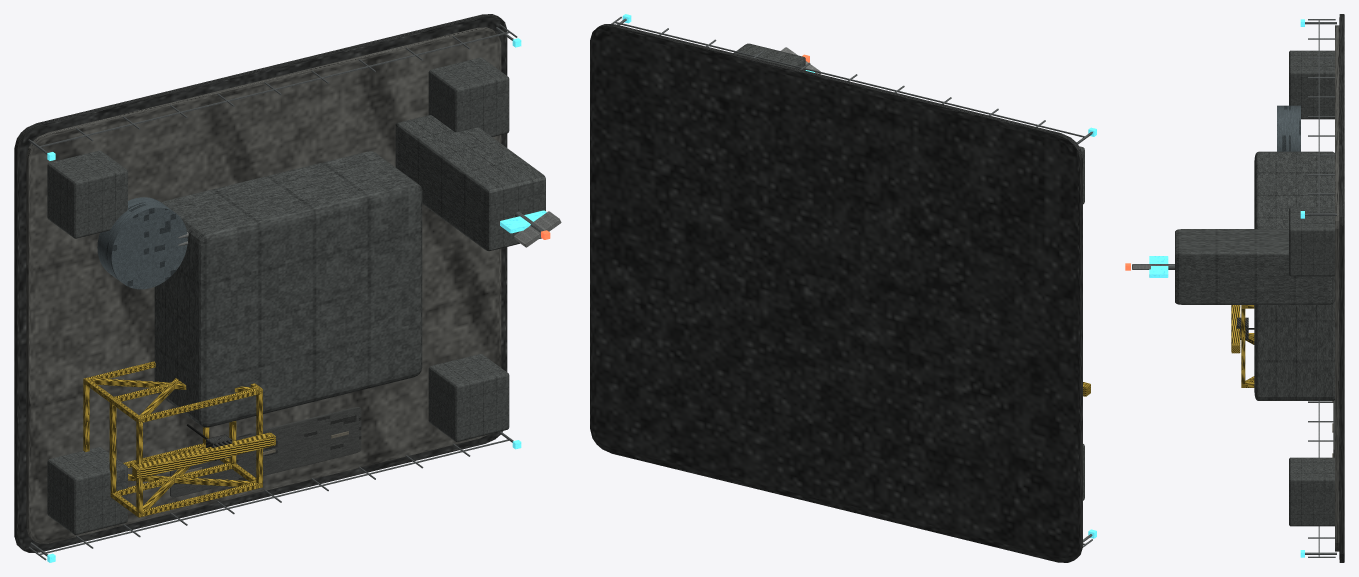
The model's file is b-42-forward-outpost-lod0.glb.
3 renders of one model, left to right at view 1: azimuth 30°, elevation 25°; view 2: azimuth 150°, elevation 25°; view 3: azimuth 270°, elevation 25°, orthographic. The views are drawn at different scales.
Parts seen in each view (by area): view 1: foundation_inner_pad, command_block, foundation, tower_main, outpost_turret_base, outpost_wall_7_-5.2, outpost_entry_road, outpost_wall_-7_5.2, outpost_wall_-7_-5.2, outpost_wall_7_5.2, resource_dropoff_bridge, resource_dropoff_beam_x_2_n (+6 smaller); view 2: foundation, tower_main; view 3: command_block, tower_main, foundation, outpost_wall_7_-5.2, outpost_wall_7_5.2, outpost_wall_-7_5.2, foundation_inner_pad, outpost_turret_base, resource_dropoff_bridge, outpost_watch_sensor_array_0, resource_dropoff_beam_y_2_e.
Boxes of the visible parts, x1,y1,x2,y2 form: foundation_inner_pad: (26,27,501,543); command_block: (154,151,422,427); foundation: (14,14,507,552); tower_main: (395,115,545,251); outpost_turret_base: (97,197,187,289); outpost_wall_7_-5.2: (428,354,509,441); outpost_entry_road: (170,407,361,497); outpost_wall_-7_5.2: (47,150,127,238); outpost_wall_-7_-5.2: (47,447,127,534); outpost_wall_7_5.2: (428,57,509,136); resource_dropoff_bridge: (132,432,275,478); resource_dropoff_beam_x_2_n: (136,388,262,422); foundation: (590,24,1082,562); tower_main: (734,43,805,70); command_block: (1254,151,1334,400); tower_main: (1175,229,1333,304); foundation: (1339,14,1344,562); outpost_wall_7_-5.2: (1289,457,1334,526); outpost_wall_7_5.2: (1289,207,1334,276); outpost_wall_-7_5.2: (1289,50,1334,119); foundation_inner_pad: (1335,25,1339,551); outpost_turret_base: (1277,105,1300,151); resource_dropoff_bridge: (1231,305,1240,353); outpost_watch_sensor_array_0: (1149,256,1168,277); resource_dropoff_beam_y_2_e: (1241,308,1245,384).
Size of what is drawn, in the model's own units: 18 by 15 by 8.27.
Materials: 13 (13 with a texture image).
